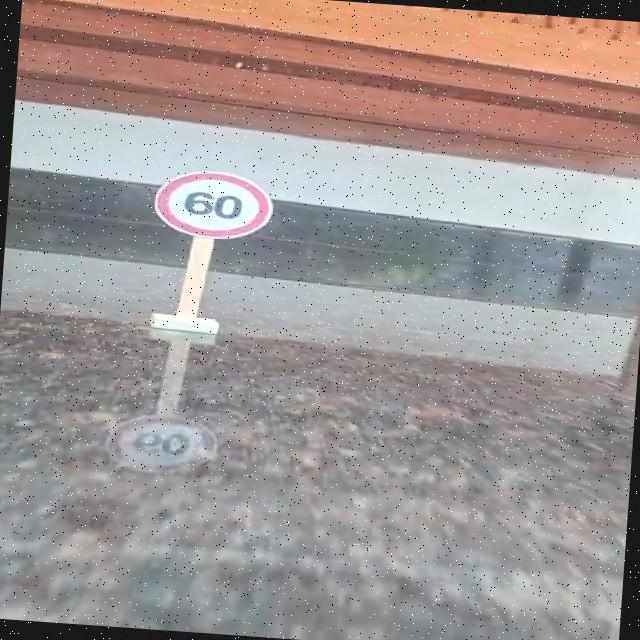Speed60: (150, 164, 278, 244)
